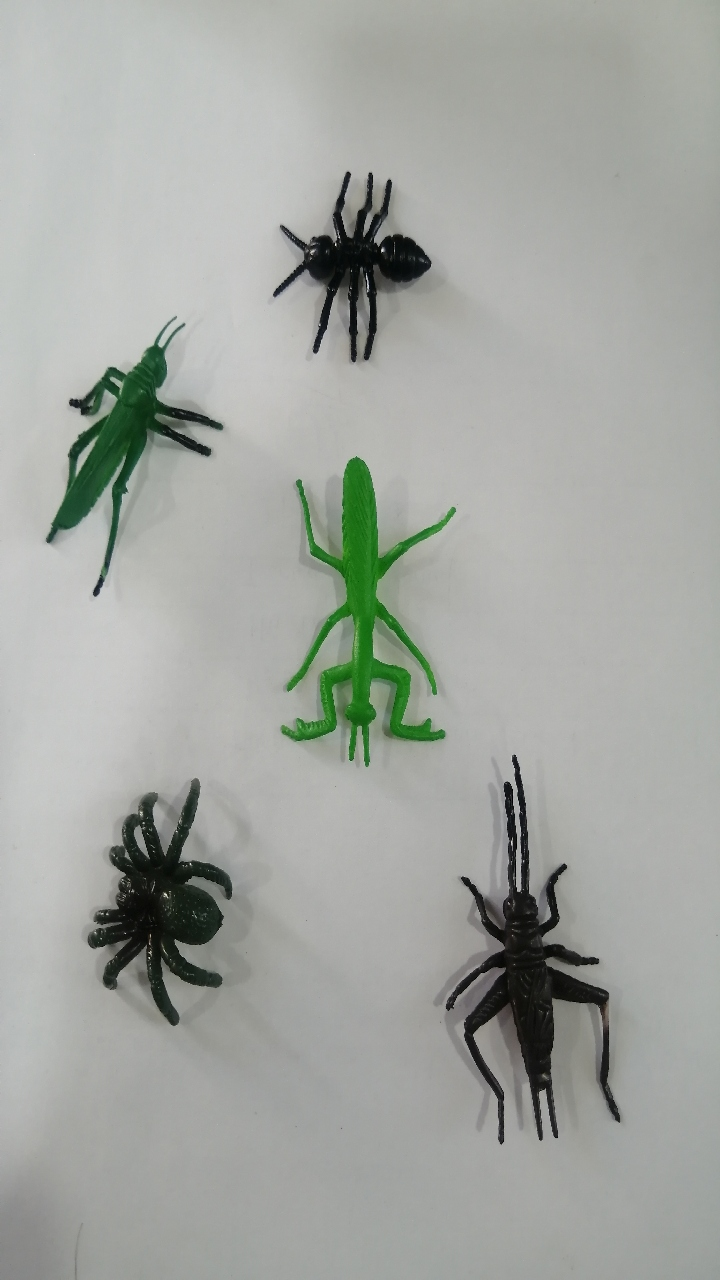intruso: (412, 754, 654, 1168), (251, 419, 469, 779), (46, 749, 254, 1063), (12, 309, 241, 594), (240, 139, 448, 382)
